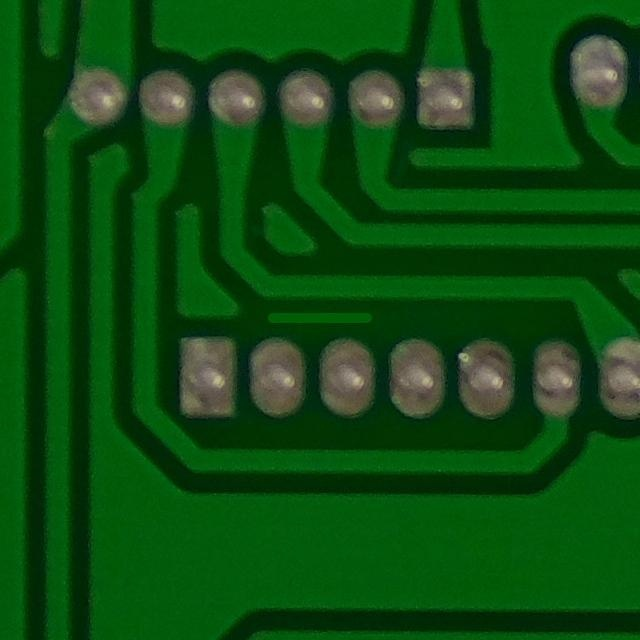spurious_copper: (255, 299, 386, 342)
